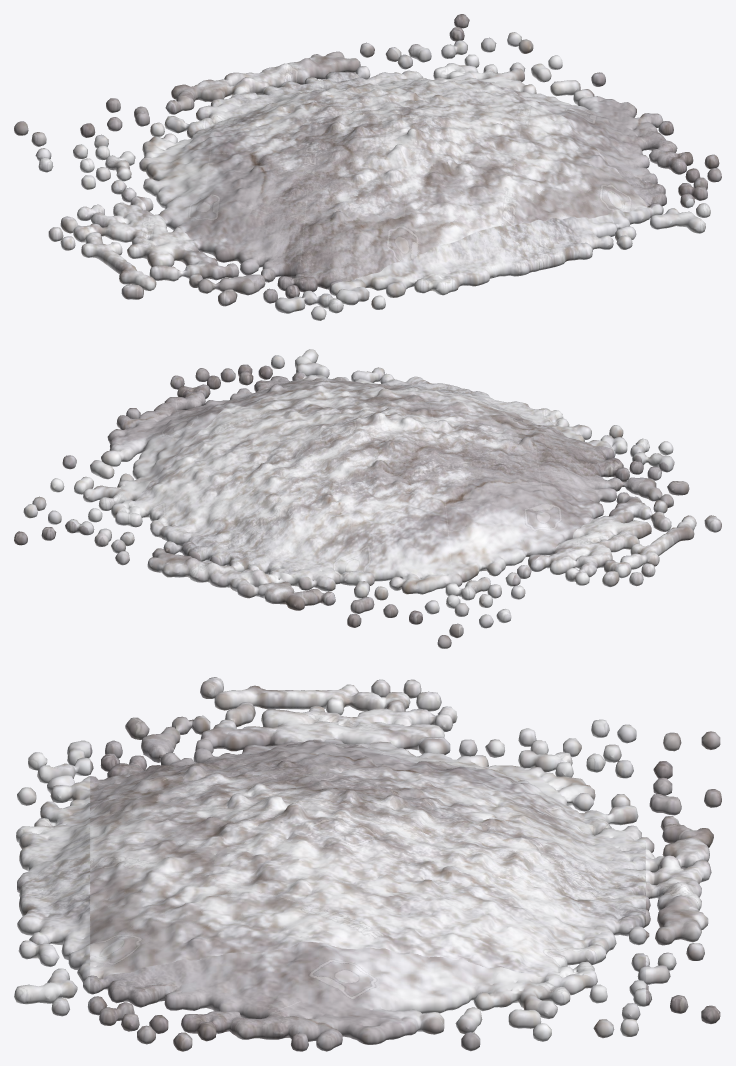
File: Powder.FBX
3 renders of one model, top to bottom at view 1: azimuth 30°, elevation 25°; view 2: azimuth 150°, elevation 25°; view 3: azimuth 270°, elevation 25°, orthographic. The views are drawn at different scales.
Parts seen in each view (by area): view 1: Pyramid001; view 2: Pyramid001; view 3: Pyramid001.
Boxes of the visible parts, left/top/right/bottom form: Pyramid001: left=14, top=14, right=721, bottom=320; Pyramid001: left=14, top=349, right=721, bottom=648; Pyramid001: left=14, top=677, right=721, bottom=1051.
Size of the model in its own units: 57.29 by 6.62 by 47.17.
Materials: 1 (1 with a texture image).
